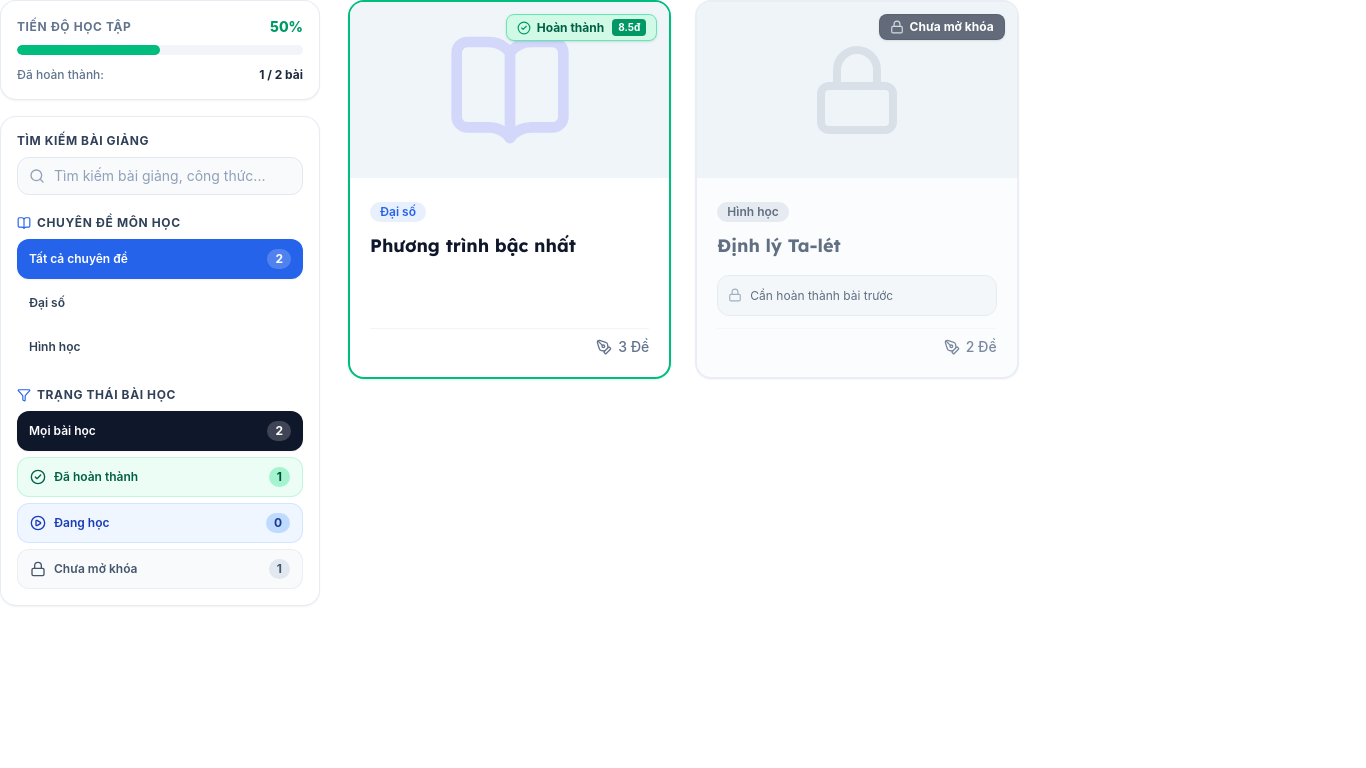
Scenario: GradeLectureList › filters lectures by chapter
This screenshot has width=1366, height=768.
Step 1. Click the button "Hình học" → (55, 346), box 17,327 -> 303,367
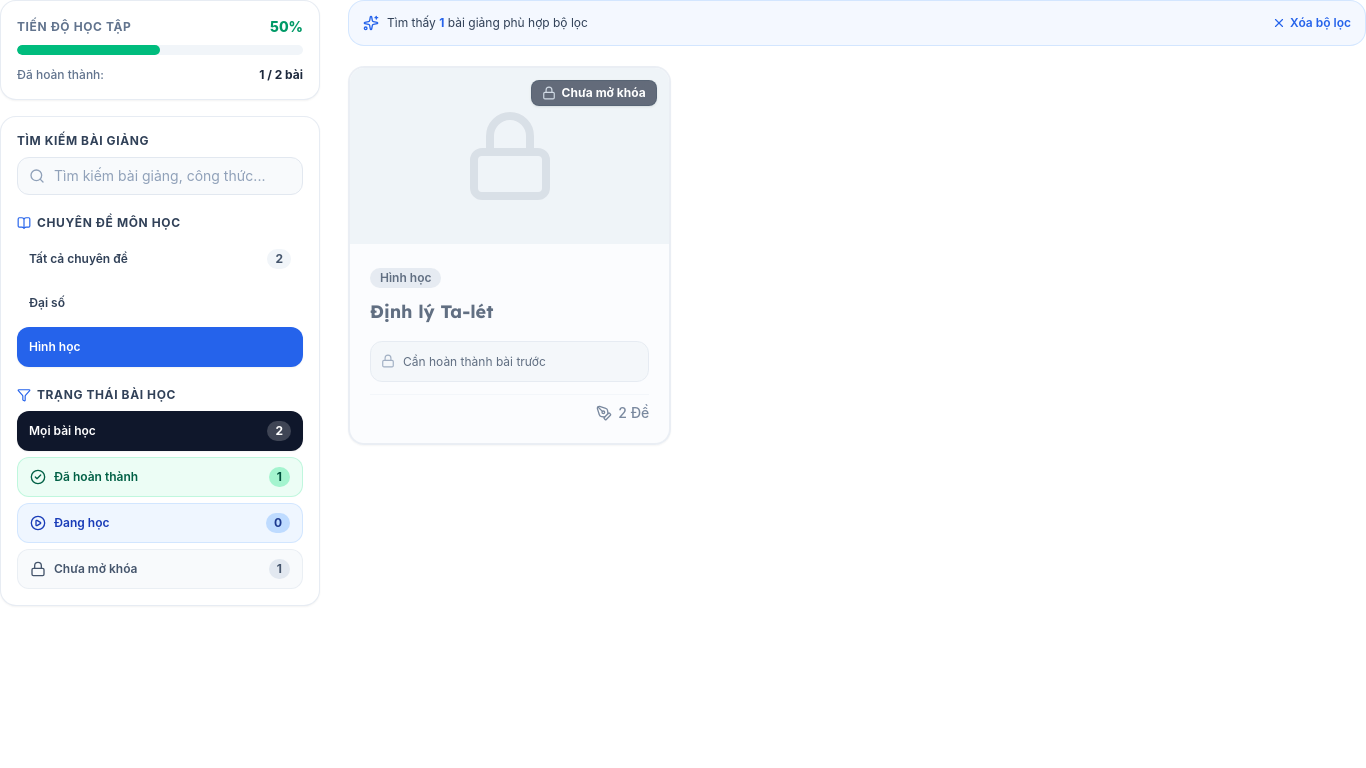
Expected: the heading "Định lý Ta-lét" is shown, 370,300 -> 493,323
Expected: the link "Phương trình bậc nhất" is gone
